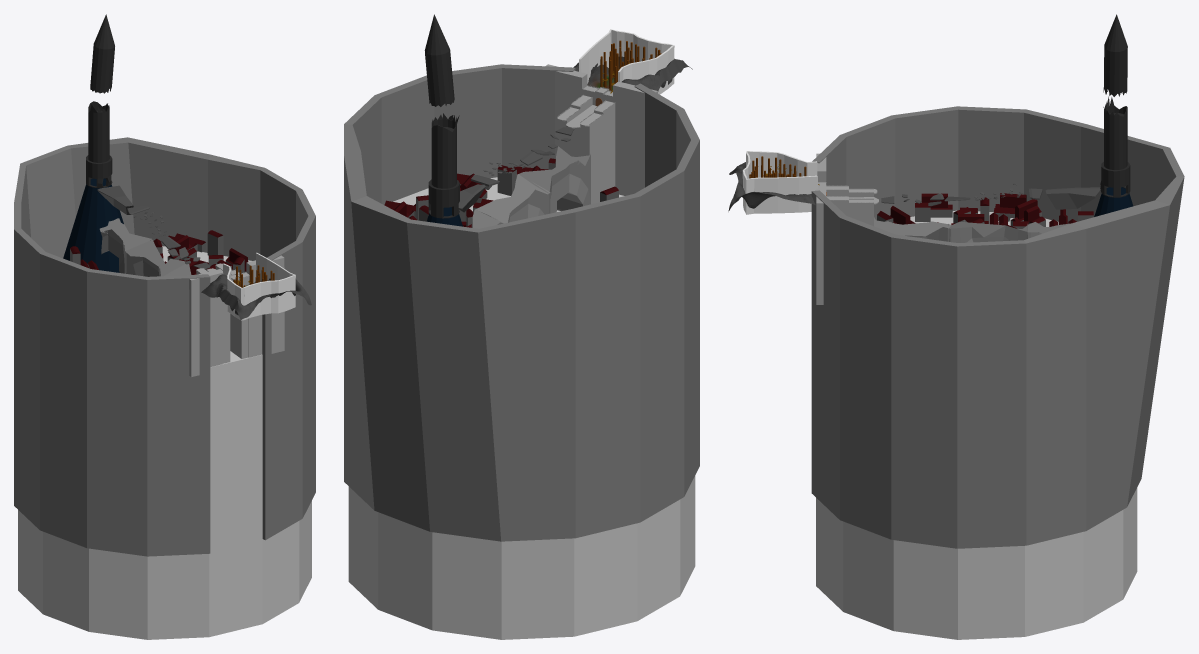
Rendered from level.fbx.
3 views of the same model, side by side, from view 1: azimuth 30°, elevation 25°; view 2: azimuth 150°, elevation 25°; view 3: azimuth 270°, elevation 25° (orthographic). The views are drawn at different scales.
Visible parts, largest first — view 1: Cylinder.007, Cylinder.005, Tower, Tower Base, Cube.001, Cube.058, Cube.002, Plane, Cube.057, Cube.017, BrokenBridgeCBrokenBridgeuBrokenBridgebBrokenBridgeeBrokenB., Cube.016; view 2: Cylinder.007, Cylinder.005, Tower, Cube.001, Cube.059, Cube.058, Cube.018, Plane, Cube.016, Cube.002, Cube.007, Cube.008; view 3: Cylinder.007, Cylinder.005, Tower, Cube.058, Cube.059, Plane, BrokenBridgeCBrokenBridgeuBrokenBridgebBrokenBridgeeBrokenB., Cube.002, TERRAIN BORDER.017, Cube.019, TERRAIN BORDER.018, Tower Base.
Boxes of the visible parts, <box> form: Cylinder.007: <box>14,137,315,556</box>; Cylinder.005: <box>18,246,311,639</box>; Tower: <box>86,14,114,188</box>; Tower Base: <box>63,178,123,272</box>; Cube.001: <box>189,279,232,376</box>; Cube.058: <box>124,239,185,276</box>; Cube.002: <box>238,268,284,357</box>; Plane: <box>201,274,311,320</box>; Cube.057: <box>99,218,152,273</box>; Cube.017: <box>230,270,248,358</box>; BrokenBridgeCBrokenBridgeuBrokenBridgebBrokenBridgeeBrokenB.: <box>97,185,133,214</box>; Cube.016: <box>222,302,230,363</box>; Cylinder.007: <box>344,64,699,541</box>; Cylinder.005: <box>348,177,695,639</box>; Tower: <box>424,14,459,218</box>; Cube.001: <box>603,91,644,195</box>; Cube.059: <box>516,146,590,213</box>; Cube.058: <box>475,174,550,223</box>; Cube.018: <box>580,113,606,204</box>; Plane: <box>573,56,692,91</box>; Cube.016: <box>594,101,615,189</box>; Cube.002: <box>555,83,597,158</box>; Cube.007: <box>613,81,657,105</box>; Cube.008: <box>545,64,587,88</box>; Cylinder.007: <box>811,106,1184,548</box>; Cylinder.005: <box>816,210,1137,639</box>; Tower: <box>1100,14,1130,197</box>; Cube.058: <box>948,219,1027,242</box>; Cube.059: <box>874,217,950,241</box>; Plane: <box>728,162,815,211</box>; BrokenBridgeCBrokenBridgeuBrokenBridgebBrokenBridgeeBrokenB.: <box>1045,187,1100,209</box>; Cube.002: <box>816,214,823,304</box>; TERRAIN BORDER.017: <box>754,177,777,213</box>; Cube.019: <box>842,199,877,226</box>; TERRAIN BORDER.018: <box>777,176,798,213</box>; Tower Base: <box>1094,187,1133,216</box>.
Size of the model in its own units: 7486 by 13990 by 10294.
